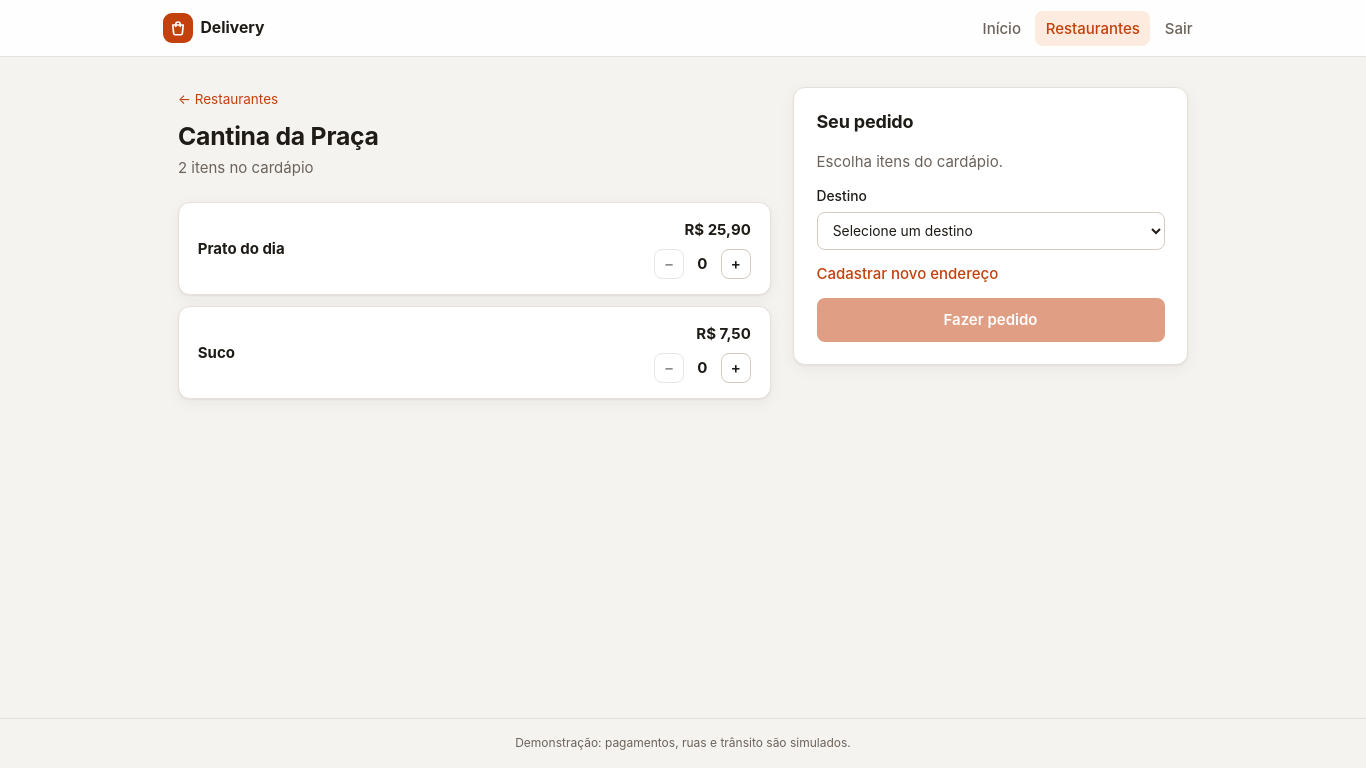
Test: checkout › shows why the order was refused and allows another attempt
The image size is (1366, 768).
Check: the heading "Cantina da Praça" is shown, box 178,121 -> 379,152
Click the button named "Adicionar uma unidade de Suco": (736, 368) 721,353 -> 751,383
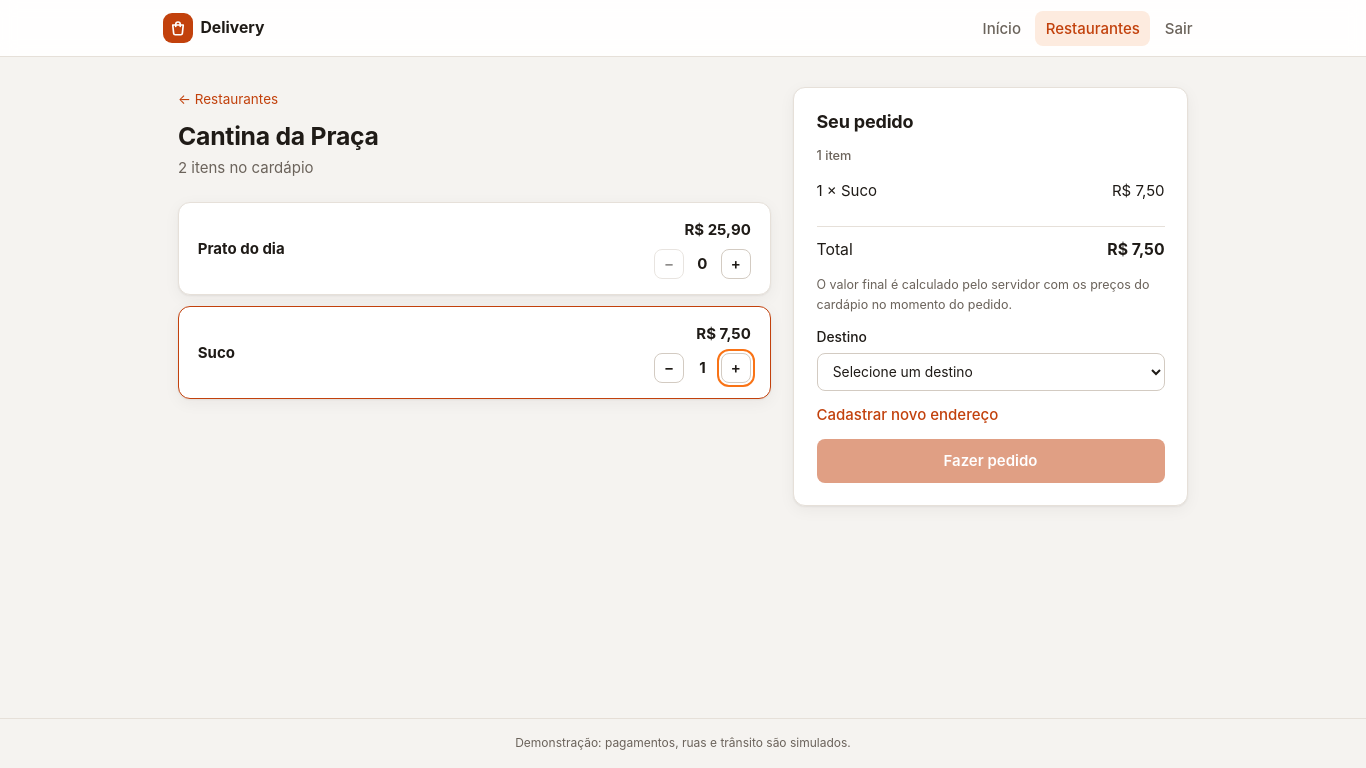
Select "Ponto sintético A" in the dropdown labelled "Destino": (990, 372) 816,352 -> 1164,390
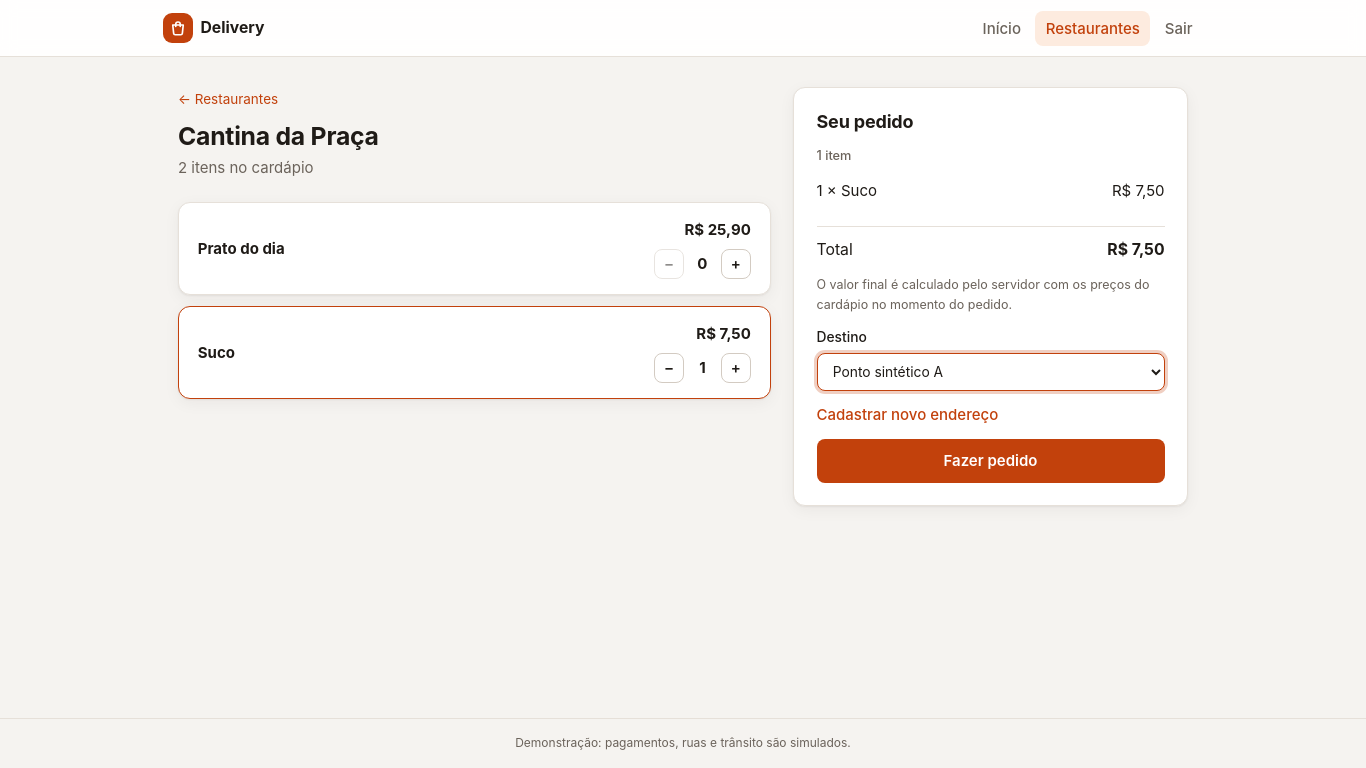
Click the button "Fazer pedido": (990, 461) 816,439 -> 1164,483
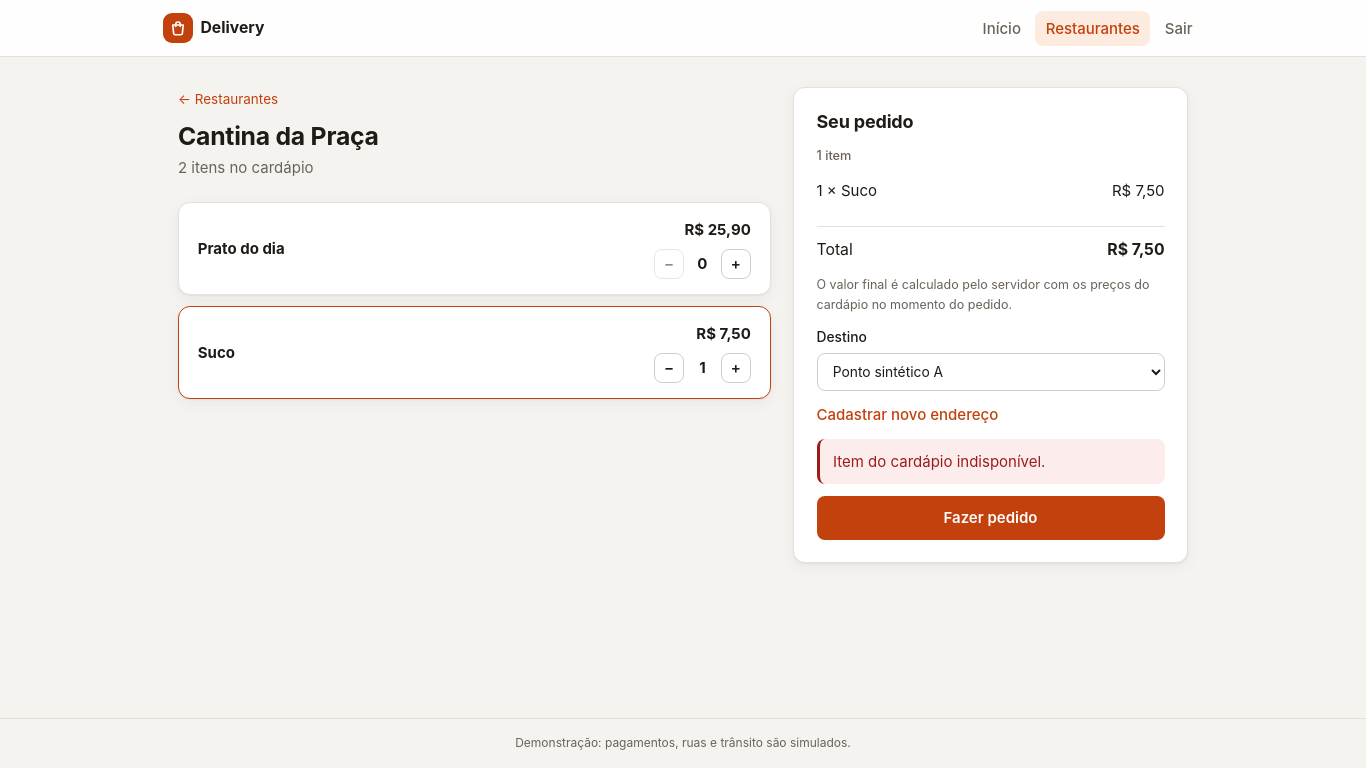
Check: the button "Fazer pedido" is enabled, box 816,496 -> 1164,540
Check: the message reads "Item do cardápio indisponível.", box 833,452 -> 1045,471
